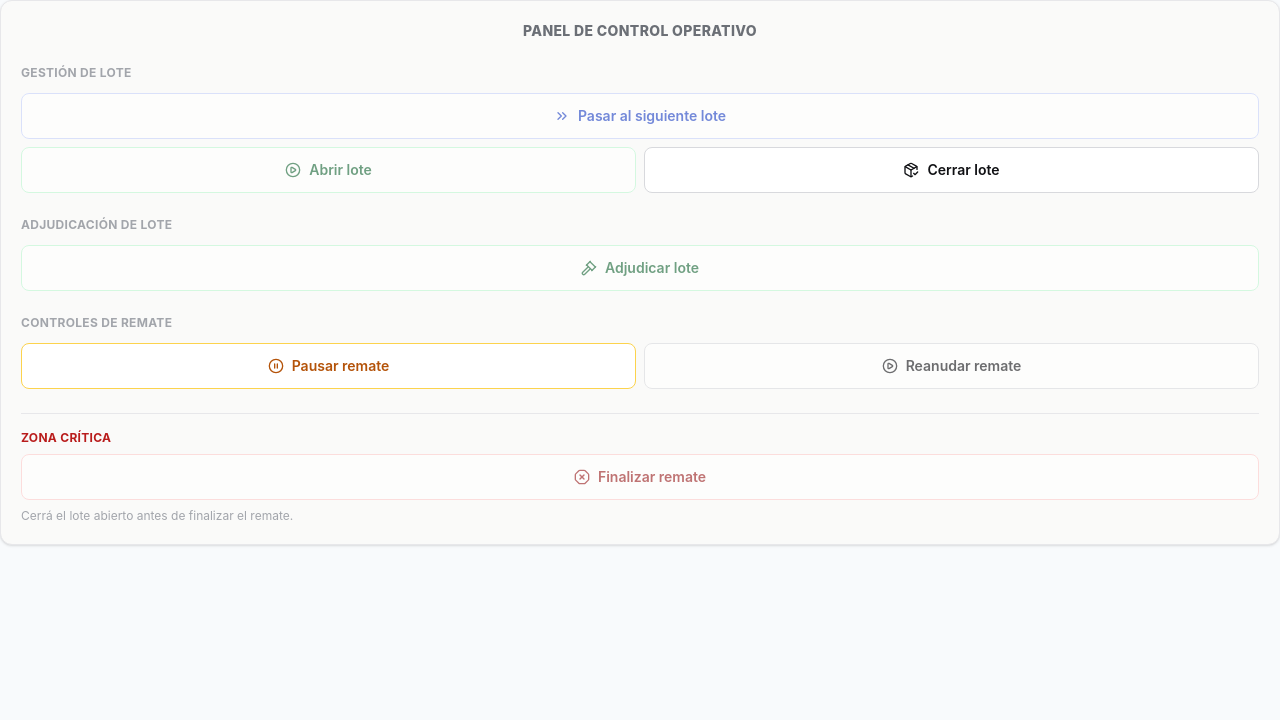
ConsolaControlPanel › Cerrar lote (exclusivo del caso sin ninguna oferta) › muestra el aviso flotante de lote desierto tras cerrar
Click the button "Cerrar lote": point(952, 170) top-left (644, 147), bottom-right (1259, 193)
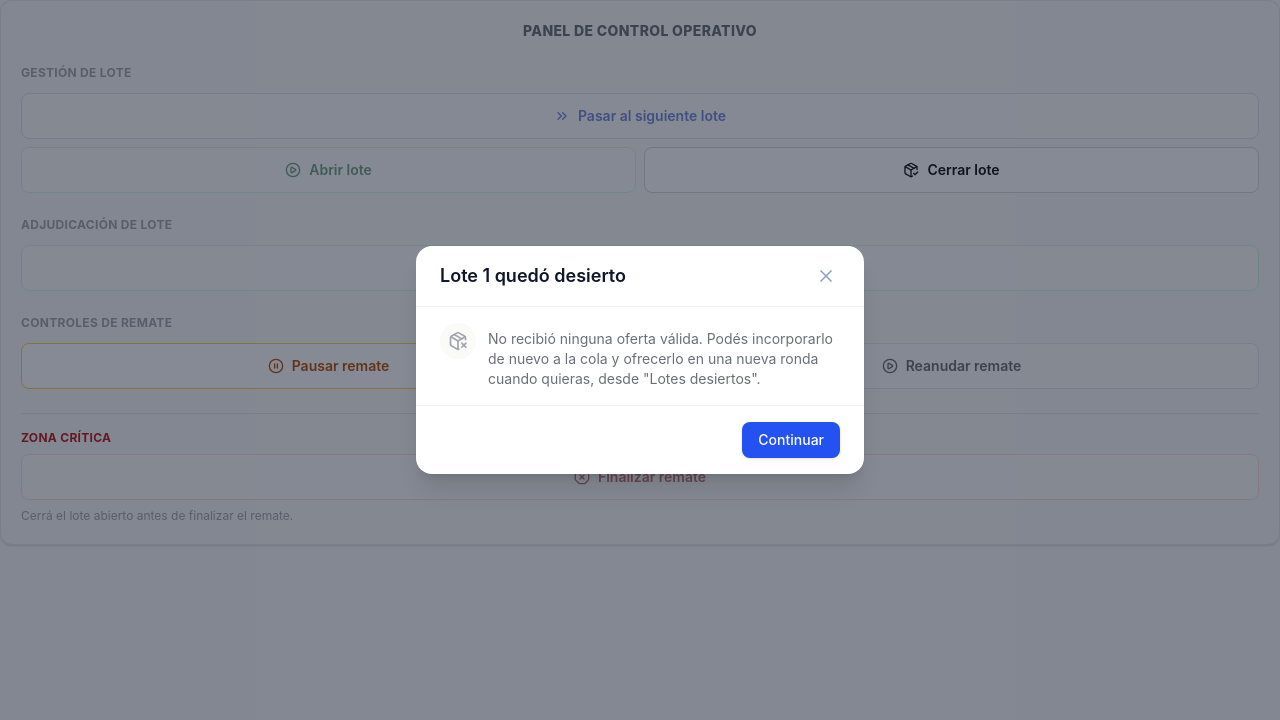
Expected: the dialog shows "Lote 1 quedó desierto", top-left (440, 265), bottom-right (626, 286)
Expected: the button "Continuar" is shown, top-left (742, 422), bottom-right (840, 458)
